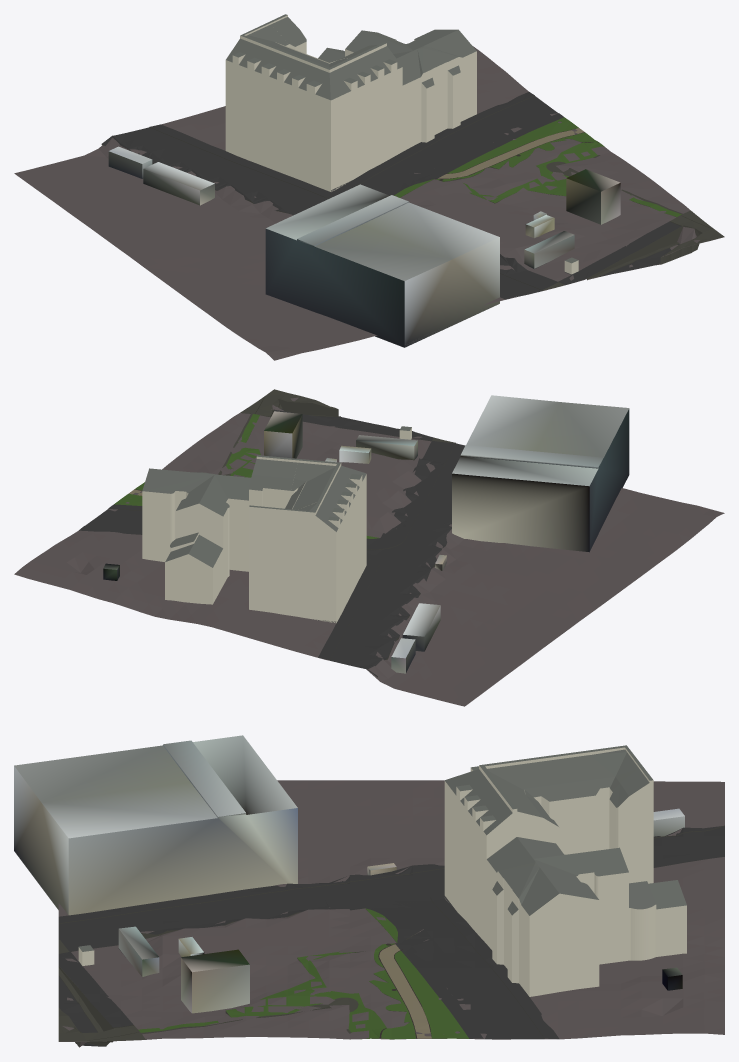
3 views of the same model, one above another, from view 1: azimuth 30°, elevation 25°; view 2: azimuth 150°, elevation 25°; view 3: azimuth 270°, elevation 25° (orthographic). The views are drawn at different scales.
Visible parts, largest first — view 1: c_m10_p11; view 2: c_m10_p11; view 3: c_m10_p11.
Boxes of the visible parts, bbox=[...] form: c_m10_p11: bbox=[14, 14, 724, 360]; c_m10_p11: bbox=[14, 389, 724, 706]; c_m10_p11: bbox=[14, 735, 724, 1047].
Size of the model in its own units: 128 by 32.6 by 137.
